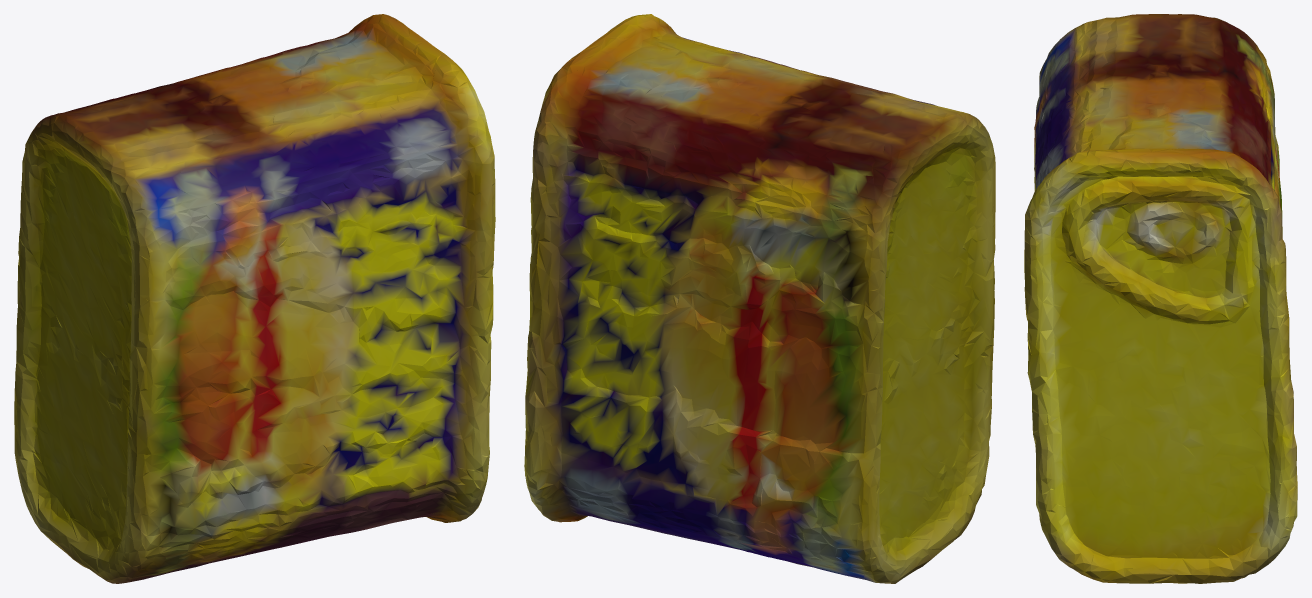
Rendered from spam_can_1.glb.
3 views of the same model, side by side, from view 1: azimuth 30°, elevation 25°; view 2: azimuth 150°, elevation 25°; view 3: azimuth 270°, elevation 25° (orthographic). The views are drawn at different scales.
Parts seen in each view (by area): view 1: geometry_0; view 2: geometry_0; view 3: geometry_0.
Boxes of the visible parts, <box> form: geometry_0: <box>14,14,495,583</box>; geometry_0: <box>524,14,995,583</box>; geometry_0: <box>1024,14,1297,583</box>.
Size of the model in its own units: 0.8043 by 1 by 0.5753.
